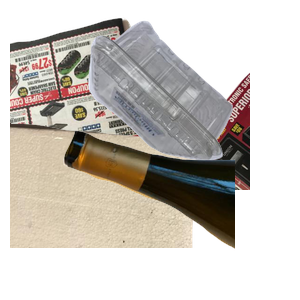glass: (60, 128, 300, 300)
paper: (10, 15, 250, 195)
plastic: (86, 18, 300, 171)
trash: (10, 120, 207, 300)
